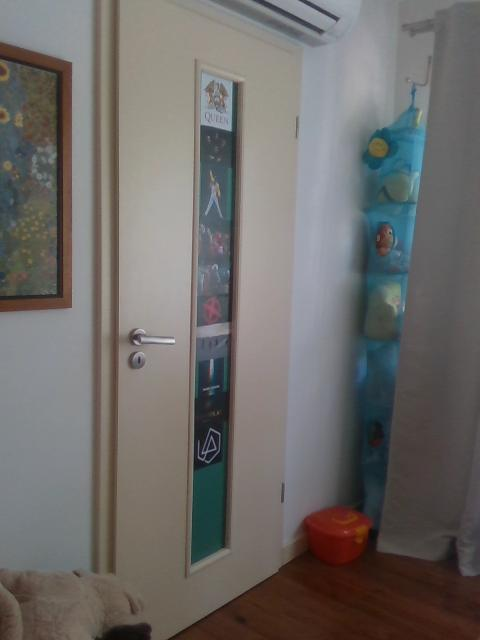door: (113, 1, 297, 640)
